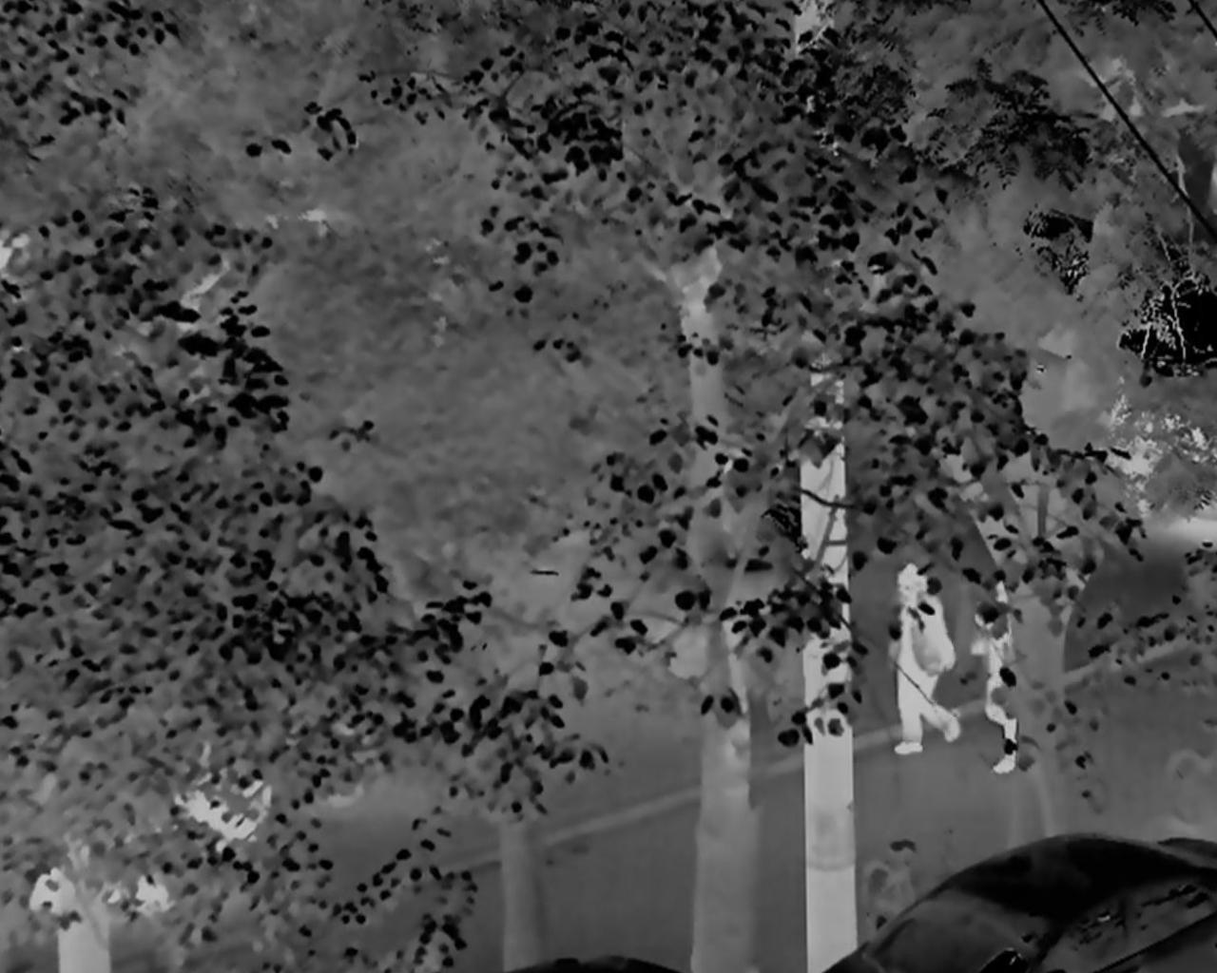person: (879, 552, 966, 757), (970, 563, 1028, 778)
